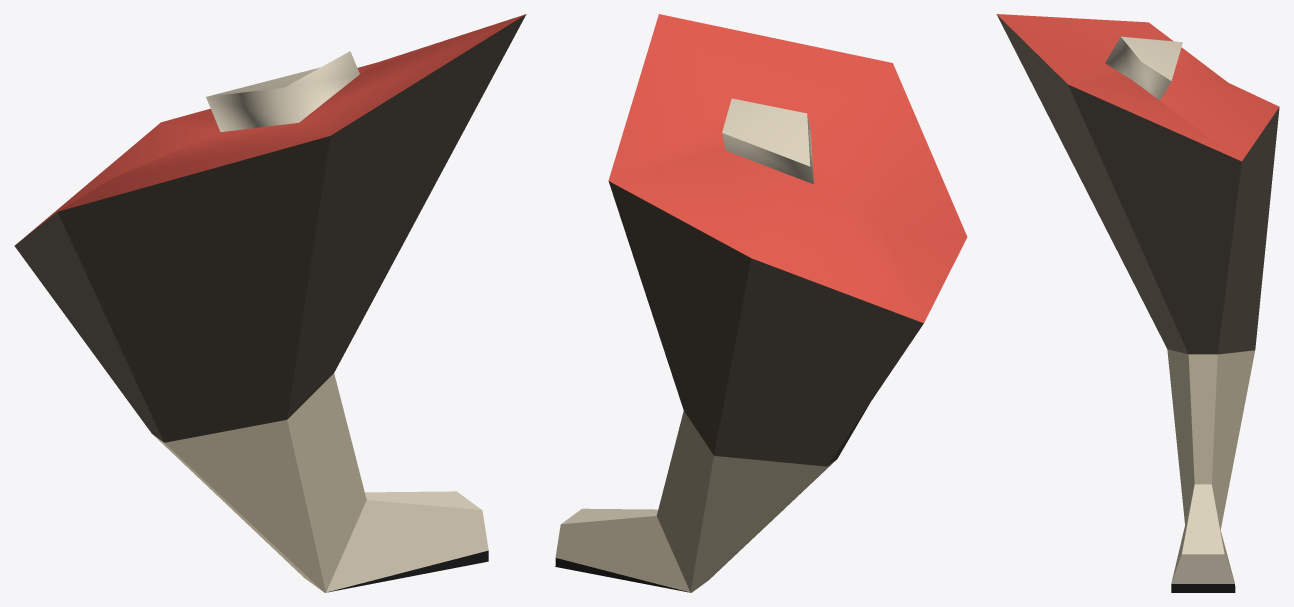
Rendered from racoon-leg-fr.glb.
3 views of the same model, side by side, from view 1: azimuth 30°, elevation 25°; view 2: azimuth 150°, elevation 25°; view 3: azimuth 270°, elevation 25° (orthographic). The views are drawn at different scales.
Visible parts, largest first — view 1: FR; view 2: FR; view 3: FR.
Boxes of the visible parts, x1,y1,x2,y2 form: FR: (14,14,526,592); FR: (555,14,967,592); FR: (996,14,1279,592).
Bounding box in the file's own units: 0.837 × 1.08 × 0.5541.
